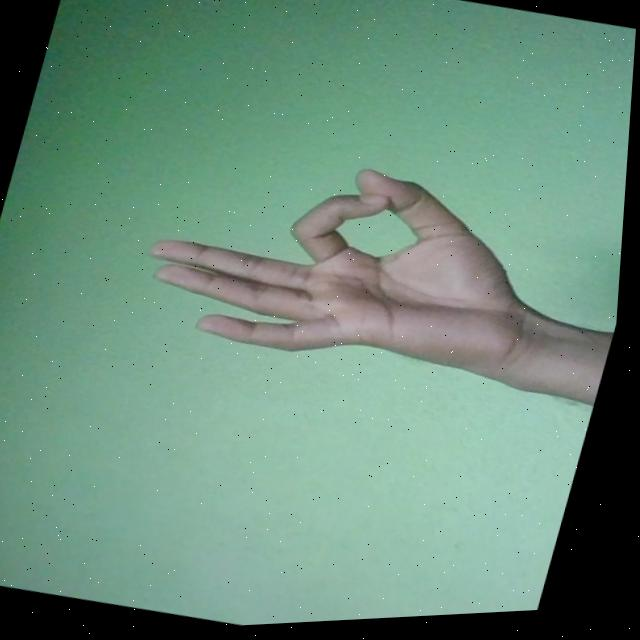Ok: (126, 120, 575, 410)
